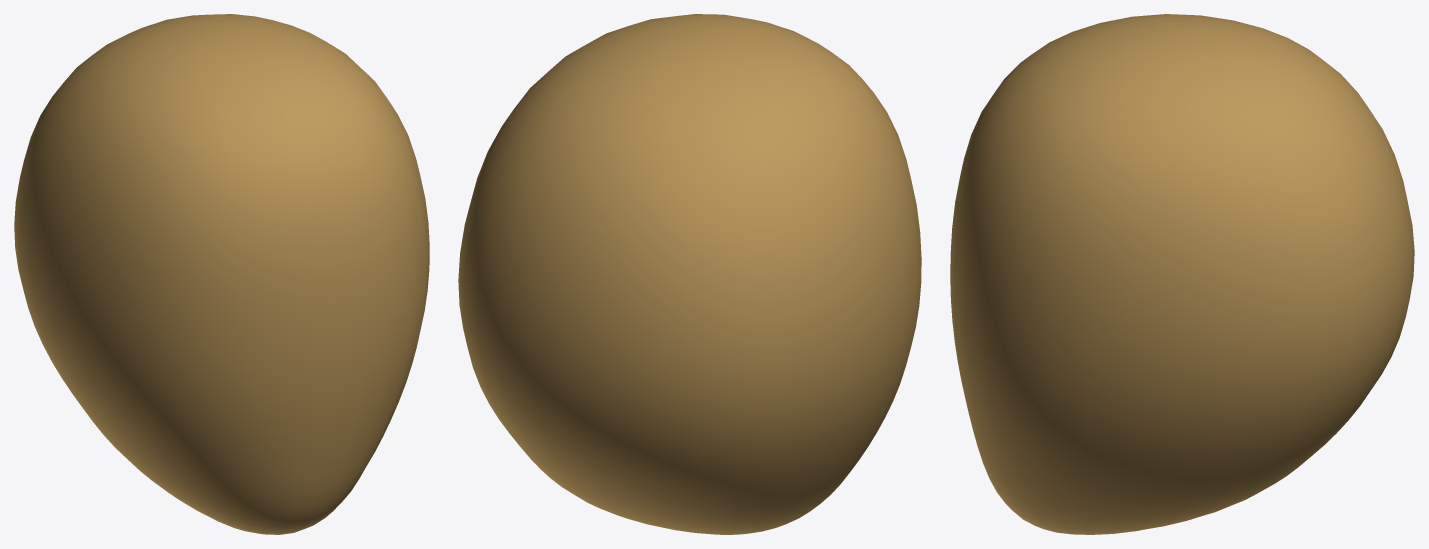
File: head_head_001.gltf
3 renders of one model, left to right at view 1: azimuth 30°, elevation 25°; view 2: azimuth 150°, elevation 25°; view 3: azimuth 270°, elevation 25°, orthographic. The views are drawn at different scales.
Parts seen in each view (by area): view 1: head.001; view 2: head.001; view 3: head.001.
Part boxes in pixels (x1,y1,x2,y2): head.001: (14, 14, 429, 534); head.001: (458, 14, 921, 534); head.001: (950, 14, 1414, 534).
Bounding box in the file's own units: 0.1454 × 0.1825 × 0.1586.
